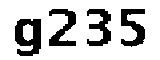2: (46, 6, 79, 50)
3: (82, 8, 112, 49)
5: (119, 6, 151, 52)
g: (13, 14, 42, 58)
